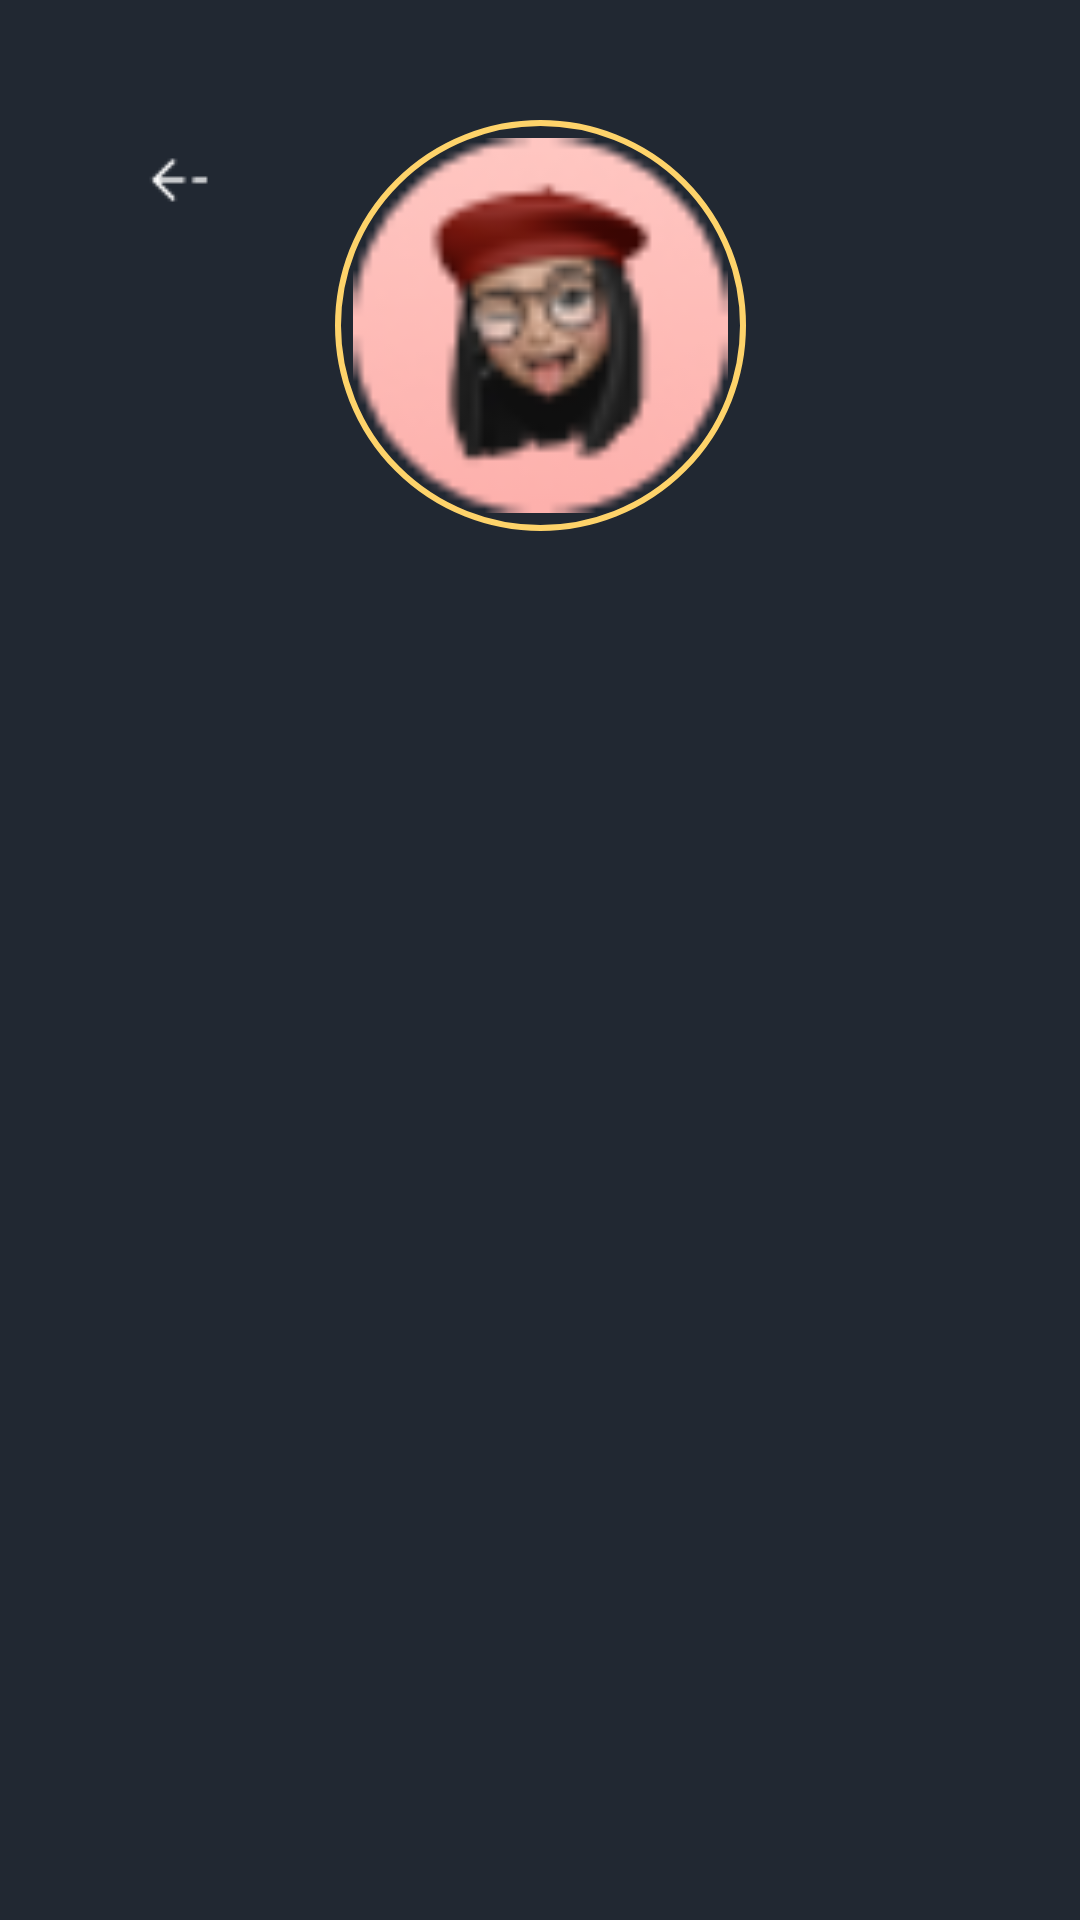

Screen size 1080*1920. Icon name, then its box in pixels as (x1, y1, x2, y2):
arrowleft: (151, 158, 208, 202)
